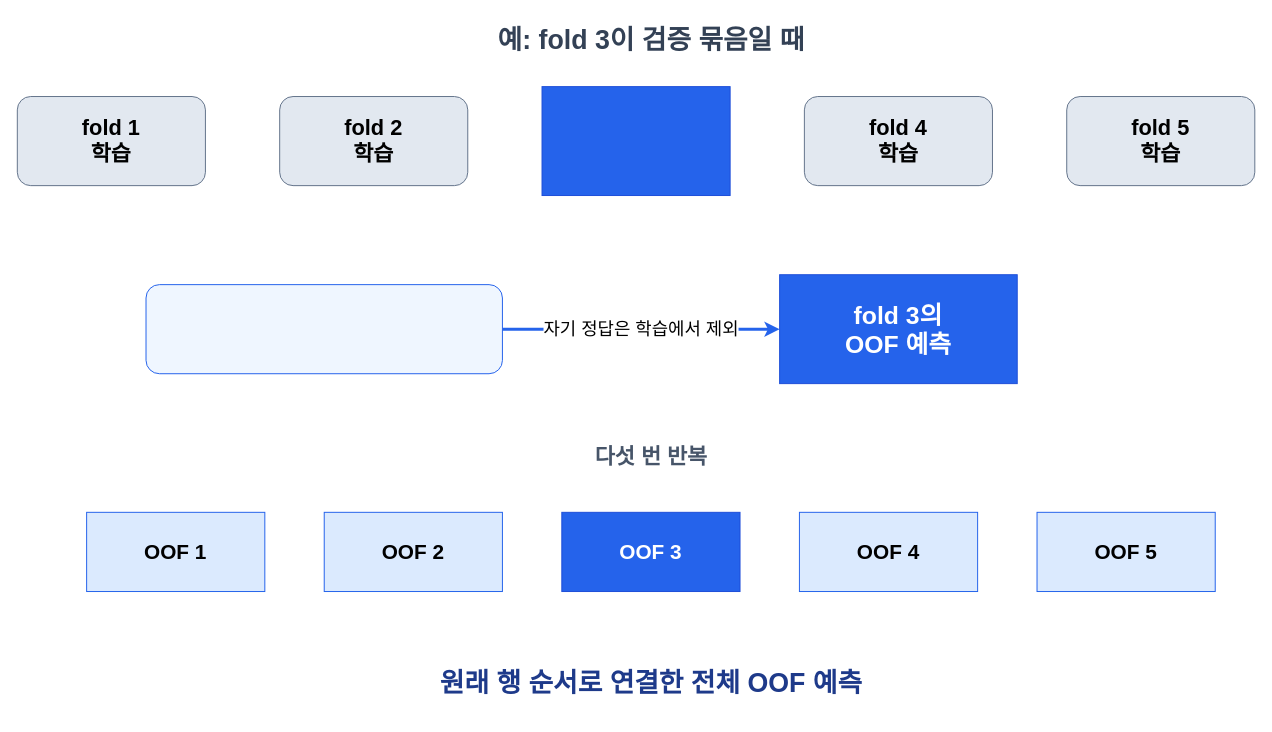
Some shapes in this 1272 by 732 pixel diagram are drawn without their labels. The centre of each missing label's shape, as x and y in pixels:
"fold 1, 2, 4, 5로 학습" belongs at (x=323, y=329).
"fold 3 검증" belongs at (x=635, y=141).
